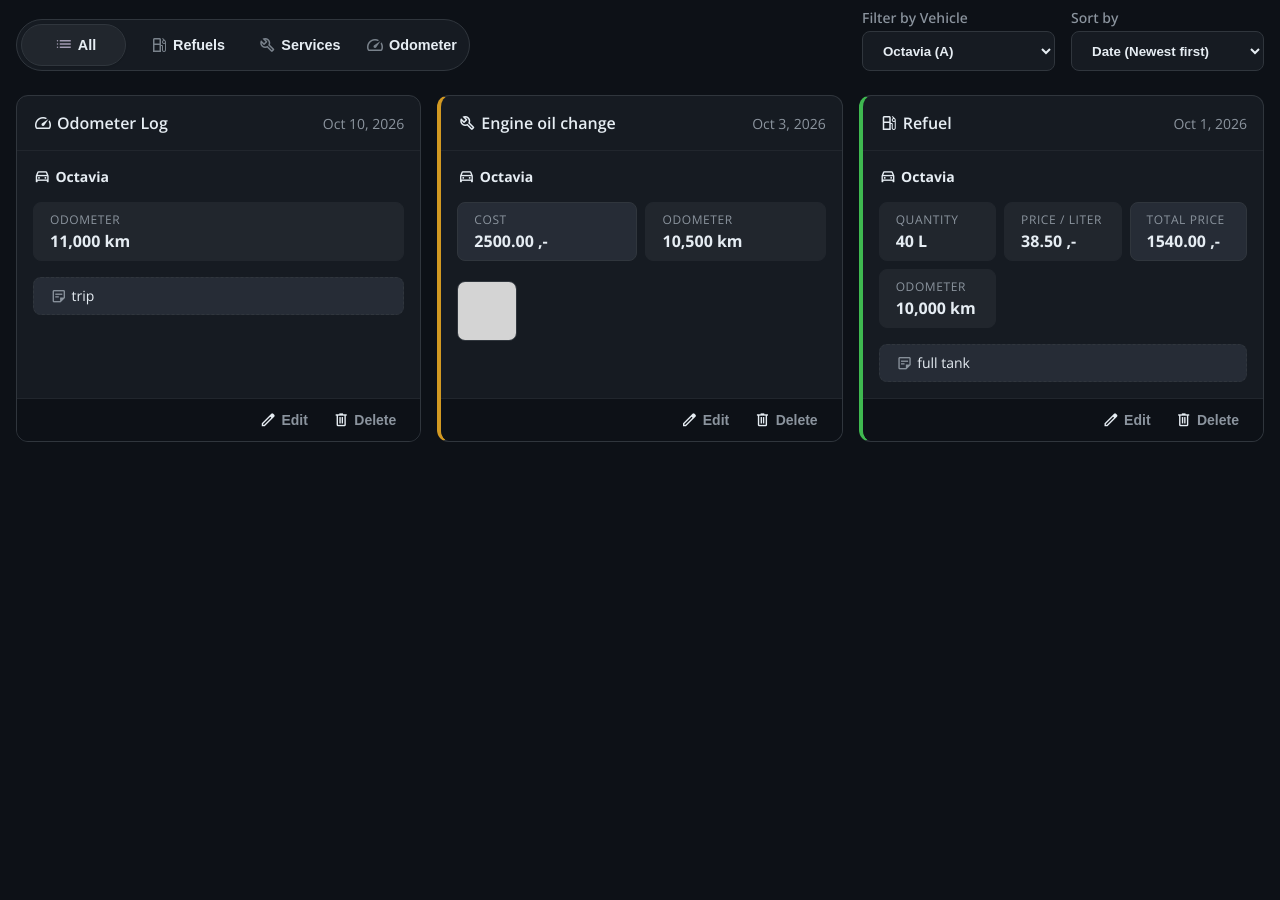
Test: History view › listing › shows every vehicle except deleted ones under "all"
Step 1. Select "All Vehicles" in the dropdown with id "history_vehicle" → (958, 51), box [862,31,1055,71]
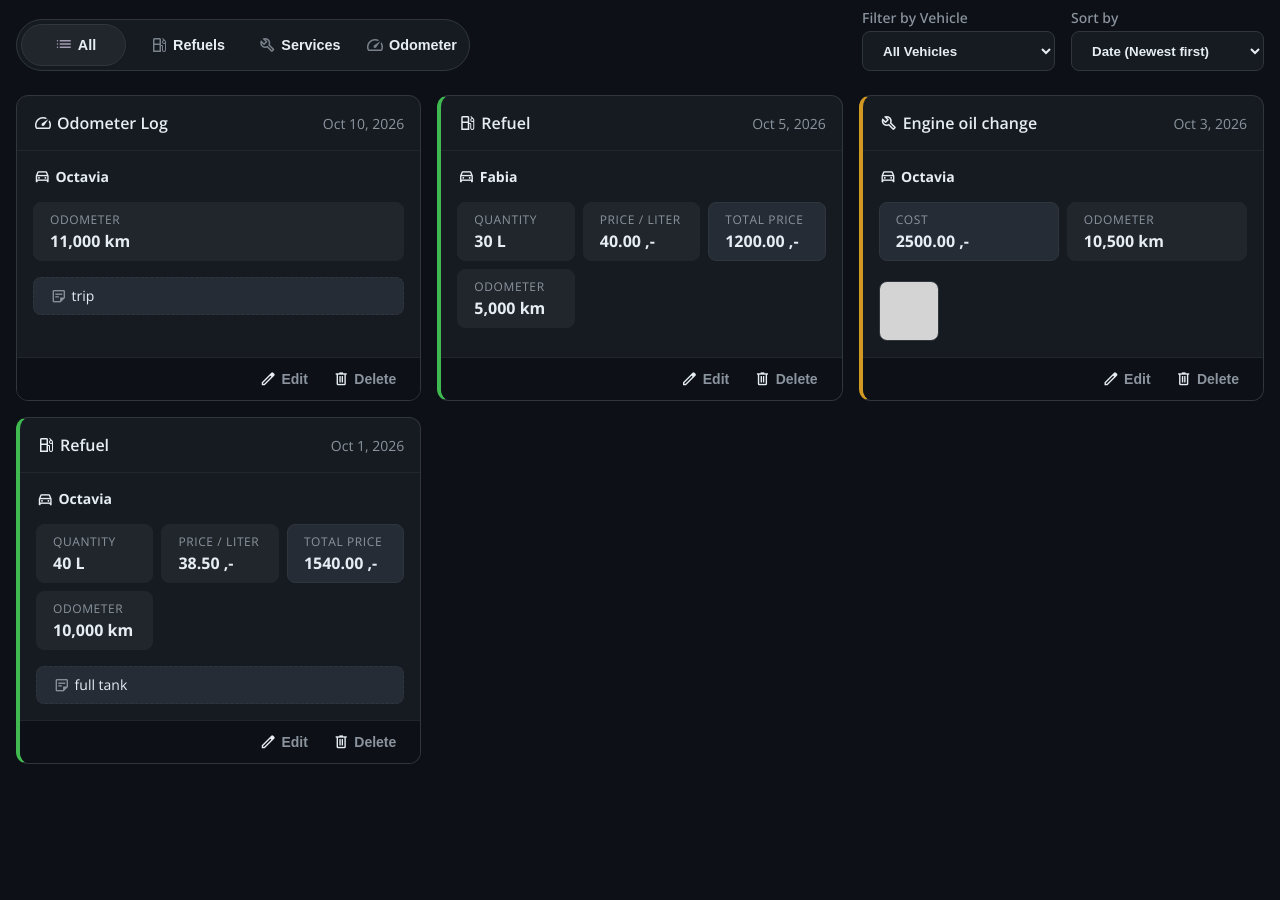
Now the number of elements with class "history-card" is 4, box [16,95,421,401]; [437,95,843,401]; [859,95,1264,401]; [16,417,421,764]
